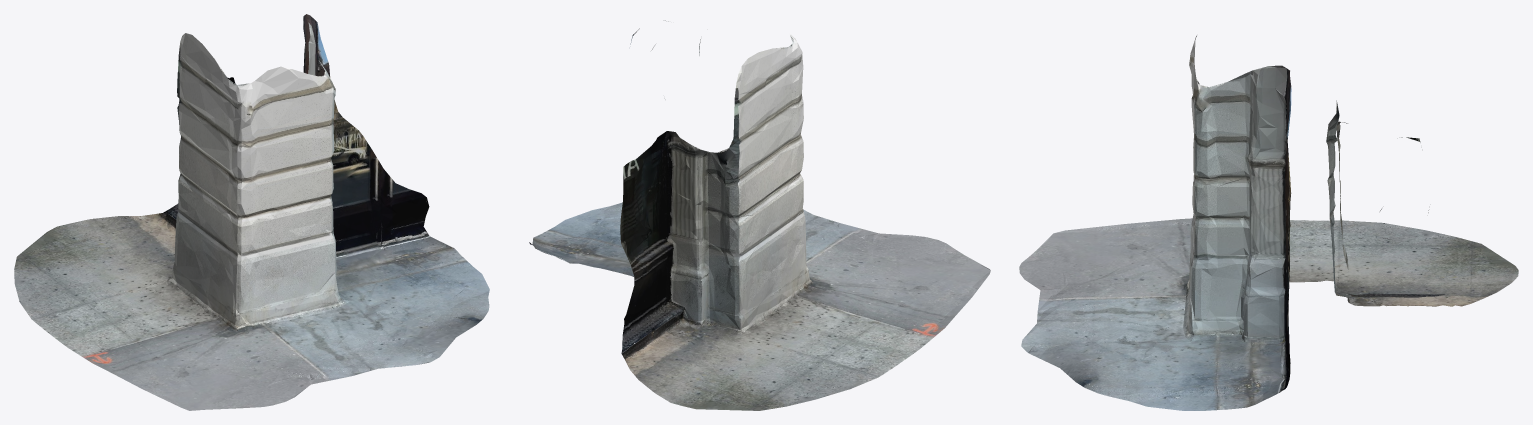
The picture shows the model from 3 angles, left to right: view 1: azimuth 30°, elevation 25°; view 2: azimuth 150°, elevation 25°; view 3: azimuth 270°, elevation 25°; orthographic projection. The views are drawn at different scales.
Bounding box in the file's own units: 5.26 × 3.49 × 5.55.
Materials: 1 (1 with a texture image).
